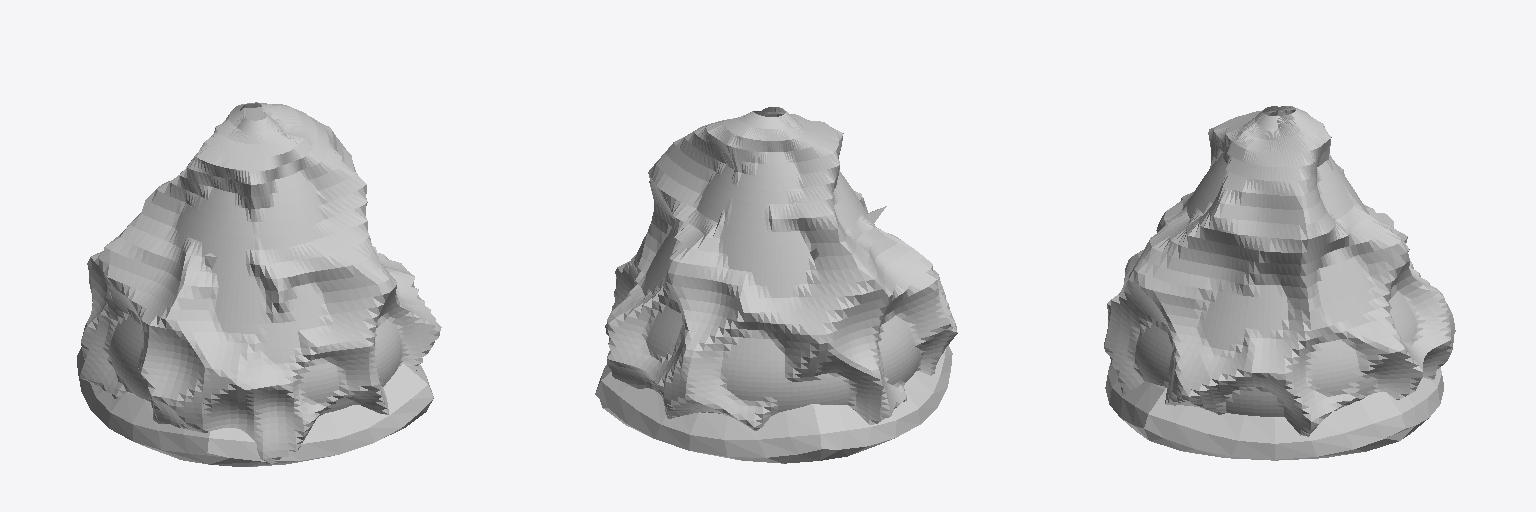
The model's file is FireSlime.obj.
3 renders of one model, left to right at view 1: azimuth 30°, elevation 25°; view 2: azimuth 150°, elevation 25°; view 3: azimuth 270°, elevation 25°, orthographic.
Parts seen in each view (by area): view 1: Fire, Slime; view 2: Fire, Slime; view 3: Fire, Slime.
Part boxes in pixels (x1,y1,x2,y2): Fire: (80, 102, 441, 463); Slime: (77, 253, 433, 466); Fire: (605, 107, 957, 430); Slime: (595, 206, 952, 463); Fire: (1104, 106, 1455, 436); Slime: (1105, 363, 1443, 460).
Bounding box in the file's own units: 2.79 × 2.61 × 2.83.